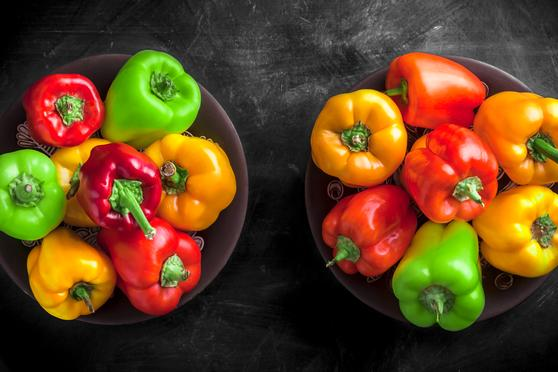pepper: (81, 141, 165, 234), (26, 73, 103, 149)
